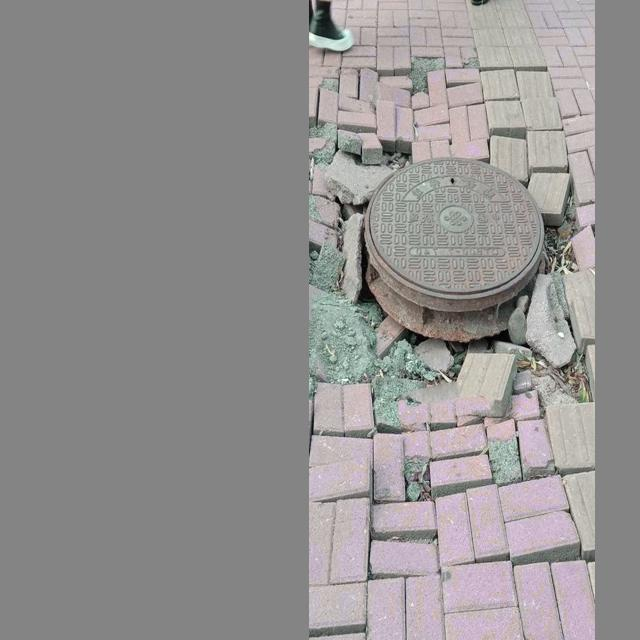circle: (313, 78, 589, 513)
